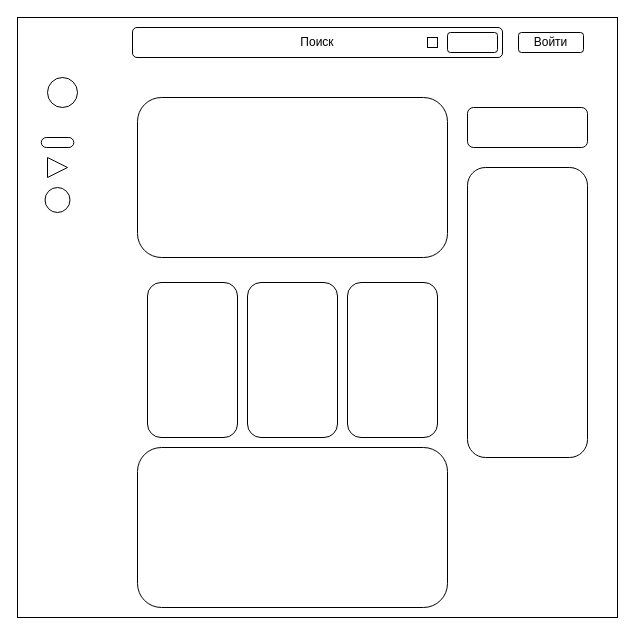
The diagram is 635 pixels wide and 635 high, and some of its shapes have lost their labels. The box of each missing label's shape, as (x1, y1, x2, y2) in pixels:
Дзен: (46, 76, 78, 108)
Найти: (446, 32, 498, 52)
